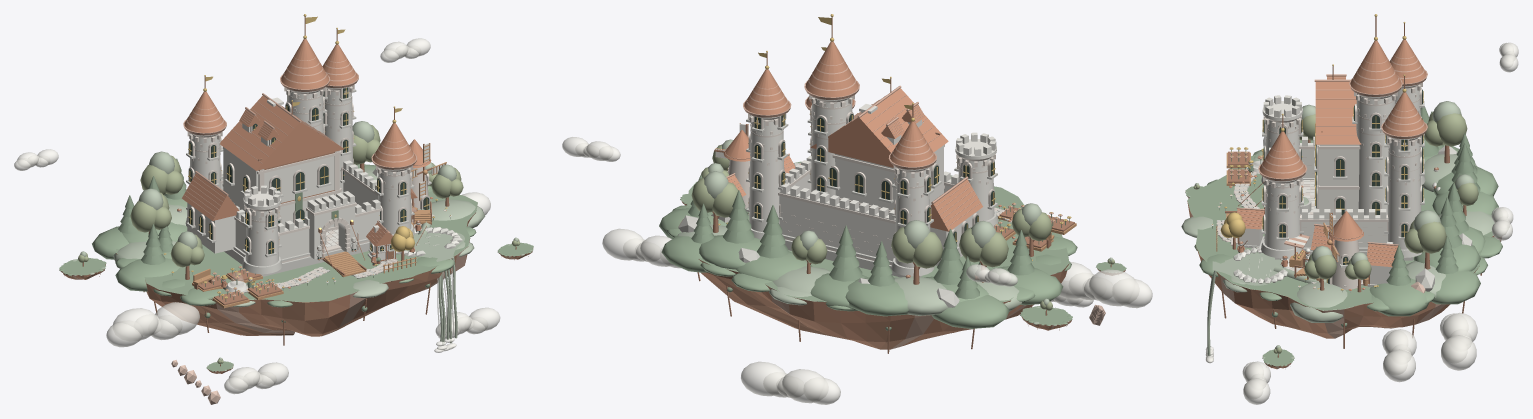
Rendered from cloud-castle.glb.
3 views of the same model, side by side, from view 1: azimuth 30°, elevation 25°; view 2: azimuth 150°, elevation 25°; view 3: azimuth 270°, elevation 25° (orthographic). The views are drawn at different scales.
Parts seen in each view (by area): view 1: castle-towers-details (×7), island-terrain-details (×5), castle-cutaway-details (×6), whispering-forest-details (×5), wandering-clouds, castle-structure-details (×4), rose-garden-details (×3), windmill-village-details (×3), starlight-waterfall-details, little-satellite-islands-details (×2), windmill-blades; view 2: whispering-forest-details (×6), castle-towers-details (×7), castle-structure-details (×5), island-terrain-details (×4), wandering-clouds, castle-cutaway-details (×3), rose-garden-details (×2), windmill-village-details (×2), little-satellite-islands-details; view 3: castle-towers-details (×7), whispering-forest-details (×7), island-terrain-details (×5), castle-cutaway-details (×5), windmill-village-details (×6), wandering-clouds, starlight-waterfall-details (×2), rose-garden-details (×3), castle-structure-details, little-satellite-islands-details, windmill-blades.
Part boxes in pixels (left/top/right/bottom): castle-towers-details (×7): left=183, top=14, right=417, bottom=274; island-terrain-details (×5): left=115, top=187, right=477, bottom=336; castle-cutaway-details (×6): left=220, top=93, right=382, bottom=277; whispering-forest-details (×5): left=92, top=121, right=485, bottom=291; wandering-clouds: left=14, top=38, right=500, bottom=394; castle-structure-details (×4): left=182, top=147, right=369, bottom=276; rose-garden-details (×3): left=170, top=234, right=283, bottom=308; windmill-village-details (×3): left=355, top=139, right=434, bottom=277; starlight-waterfall-details: left=404, top=208, right=464, bottom=344; little-satellite-islands-details (×2): left=59, top=242, right=533, bottom=404; windmill-blades: left=411, top=143, right=446, bottom=200; whispering-forest-details (×6): left=659, top=139, right=1063, bottom=328; castle-towers-details (×7): left=743, top=14, right=998, bottom=276; castle-structure-details (×5): left=778, top=145, right=982, bottom=277; island-terrain-details (×4): left=666, top=161, right=1077, bottom=349; wandering-clouds: left=562, top=137, right=1152, bottom=404; castle-cutaway-details (×3): left=785, top=85, right=958, bottom=195; rose-garden-details (×2): left=994, top=207, right=1074, bottom=248; windmill-village-details (×2): left=723, top=130, right=795, bottom=214; little-satellite-islands-details: left=680, top=193, right=1126, bottom=325; castle-towers-details (×7): left=1258, top=14, right=1427, bottom=258; whispering-forest-details (×7): left=1212, top=101, right=1498, bottom=322; island-terrain-details (×5): left=1181, top=140, right=1509, bottom=338; castle-cutaway-details (×5): left=1269, top=74, right=1388, bottom=247; windmill-village-details (×6): left=1216, top=207, right=1398, bottom=289; wandering-clouds: left=1242, top=42, right=1518, bottom=404; starlight-waterfall-details (×2): left=1207, top=247, right=1368, bottom=355; rose-garden-details (×3): left=1228, top=114, right=1315, bottom=208; castle-structure-details: left=1299, top=136, right=1314, bottom=215; little-satellite-islands-details: left=1185, top=186, right=1293, bottom=366; windmill-blades: left=1323, top=212, right=1339, bottom=262.
Bounding box in the file's own units: 24.55 × 17.19 × 15.38.
